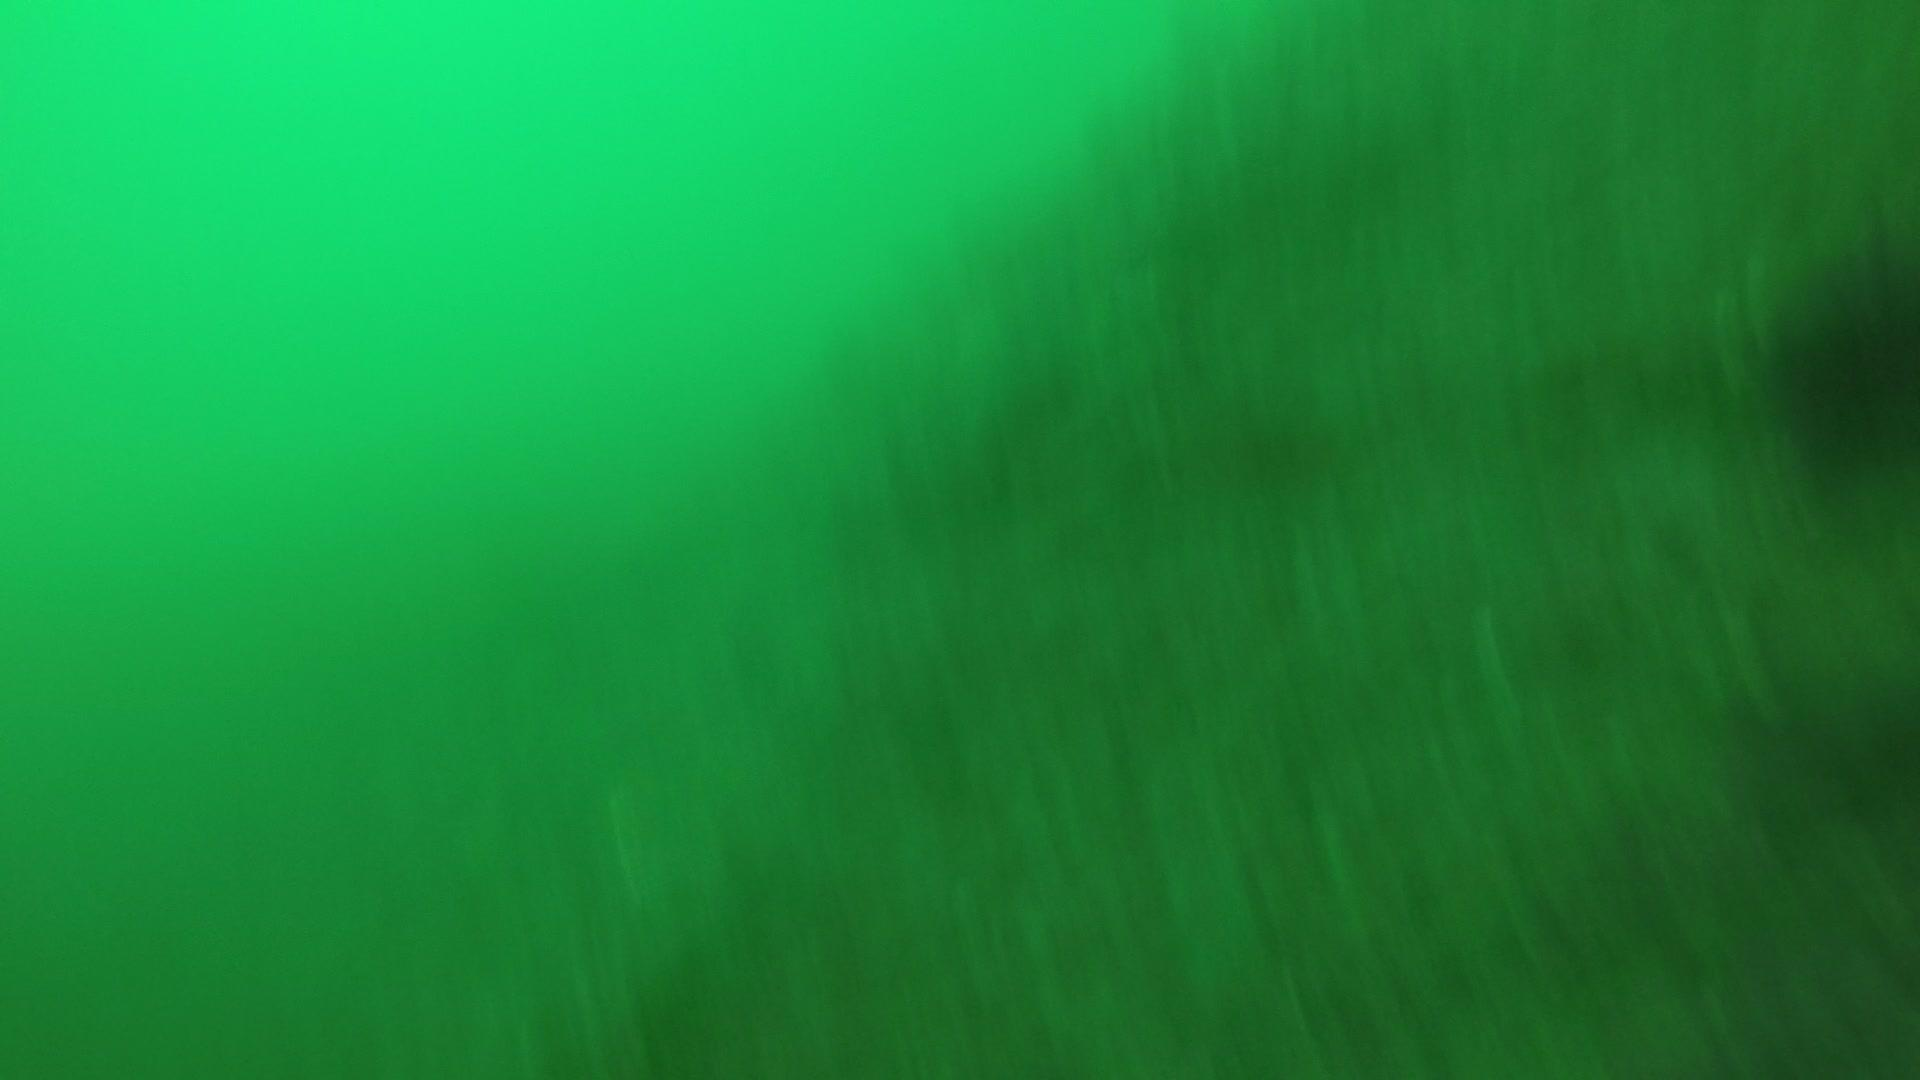echinus: (1756, 229, 1917, 487)
